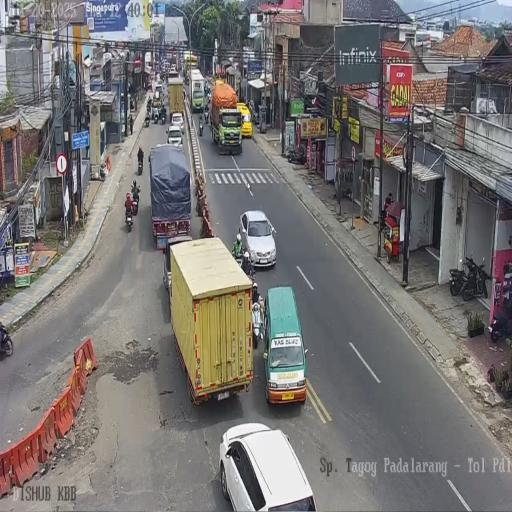car: (217, 422, 315, 511), (262, 287, 306, 405), (238, 210, 276, 270), (236, 102, 253, 138), (166, 125, 183, 148), (170, 64, 176, 75)
motorcycle: (461, 254, 490, 302), (490, 300, 512, 342), (448, 266, 466, 296), (0, 320, 13, 356), (286, 144, 306, 165), (124, 202, 134, 230), (131, 191, 139, 216), (250, 107, 260, 125), (198, 115, 204, 136), (138, 156, 144, 175), (160, 106, 166, 124), (145, 109, 150, 127), (204, 106, 209, 123), (160, 81, 165, 97), (164, 72, 168, 84)
truck: (168, 237, 257, 407), (149, 143, 192, 251), (209, 80, 241, 155), (167, 76, 184, 122), (190, 69, 204, 113), (184, 52, 198, 80), (144, 52, 152, 76), (162, 60, 170, 74)
